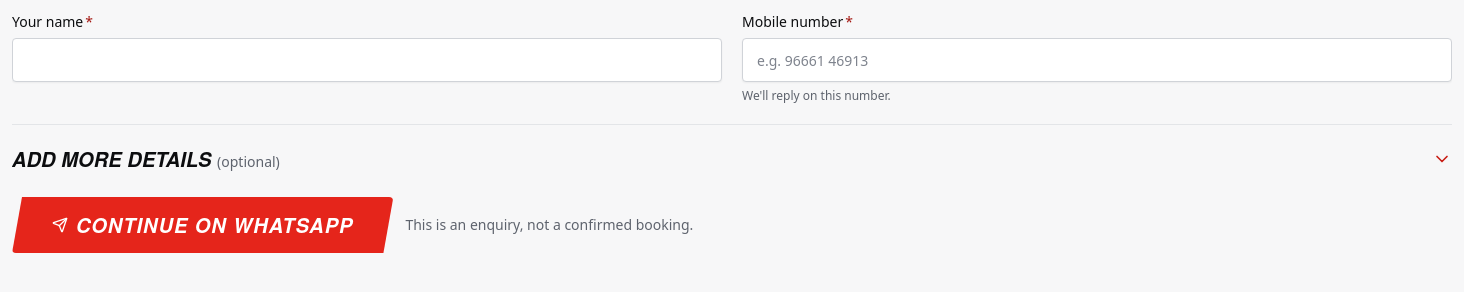
Test case: EnquiryForm: validation › shows an error for each required field and does not continue
Click the button "Continue on WhatsApp".
click(203, 225)  # box left=12, top=197, right=393, bottom=253
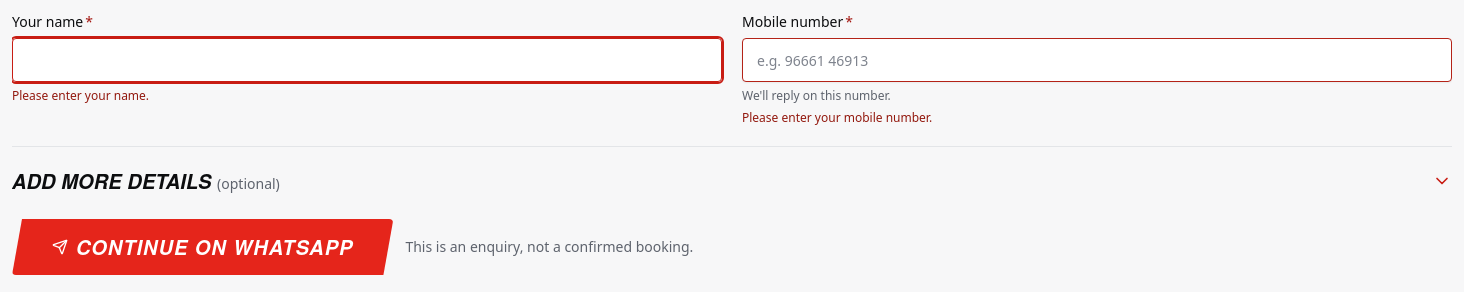
Result: the text "Please enter your name." is shown at left=12, top=87, right=149, bottom=104
Result: the text "Please enter your mobile number." is shown at left=742, top=109, right=932, bottom=126
